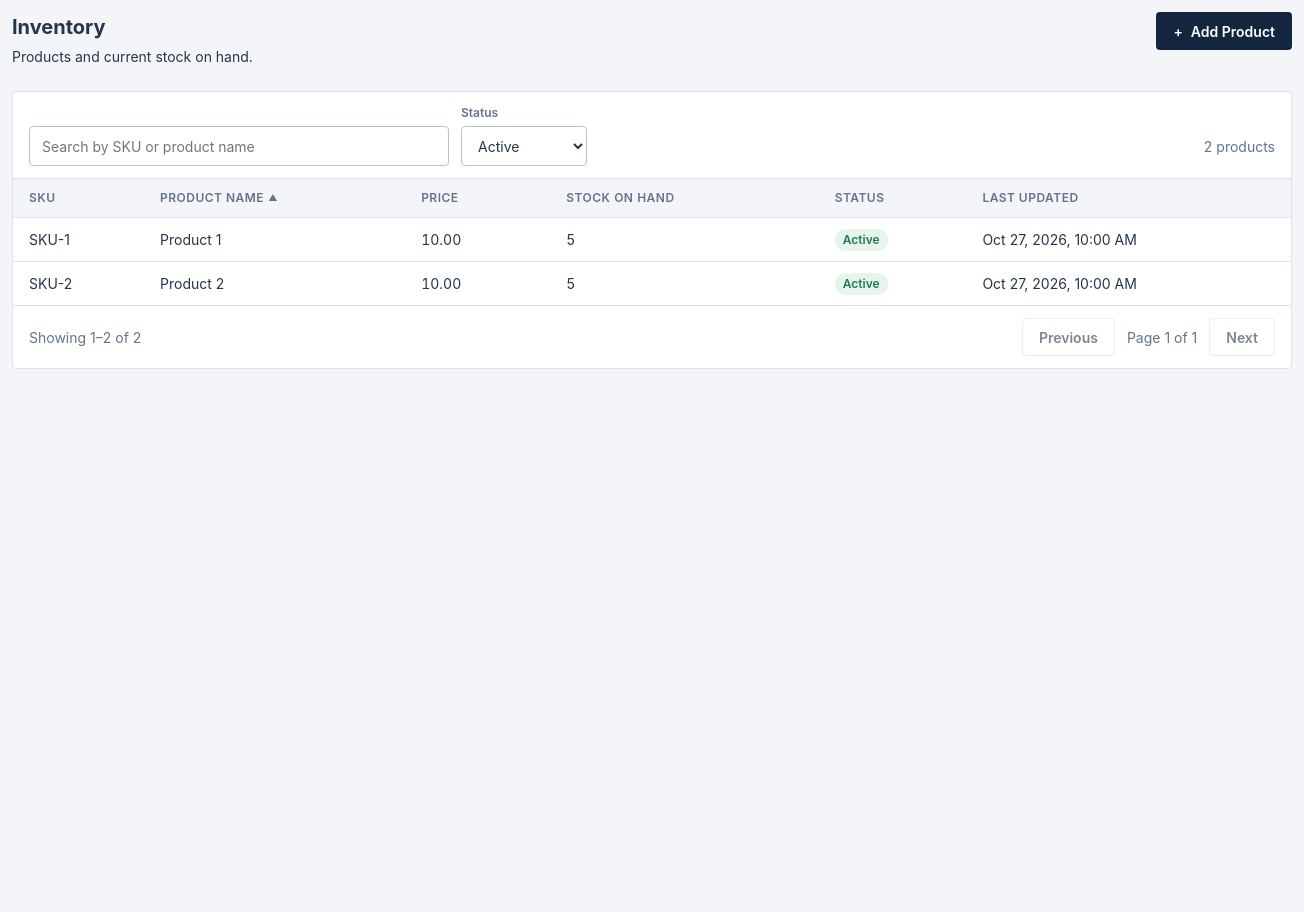
it: the + Add Product button and inline form › the form is hidden at first and opens inline without leaving the page or fetching anything
Expected: the text "Product 1" is shown, x1=144 y1=218 x2=405 y2=262
Click the button "+ Add Product" at (1224, 31), box x1=1156 y1=12 x2=1292 y2=50
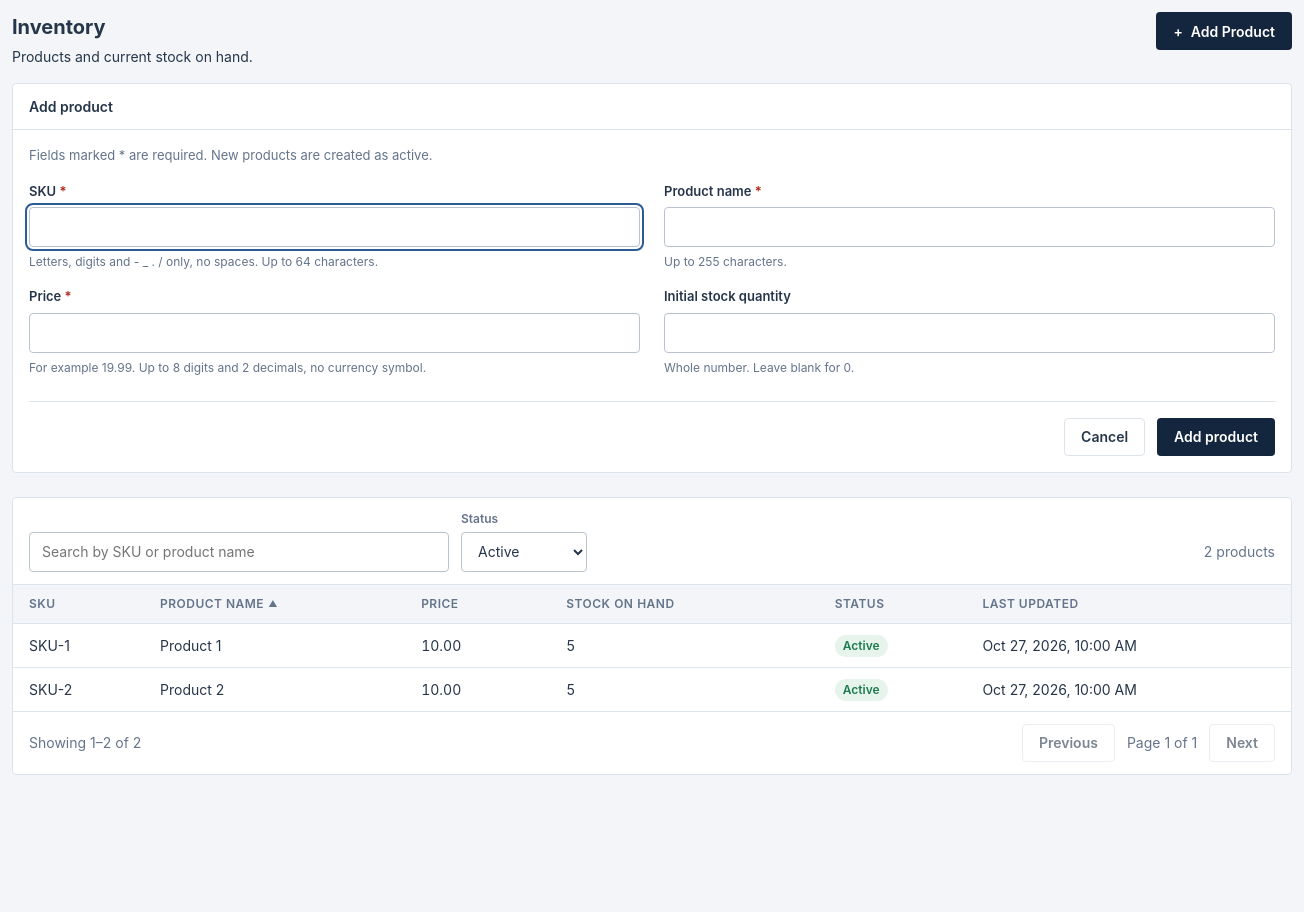
Expected: the heading "Inventory" is shown, x1=12 y1=15 x2=106 y2=39
Expected: the heading "Add product" is shown, x1=13 y1=84 x2=1291 y2=130
